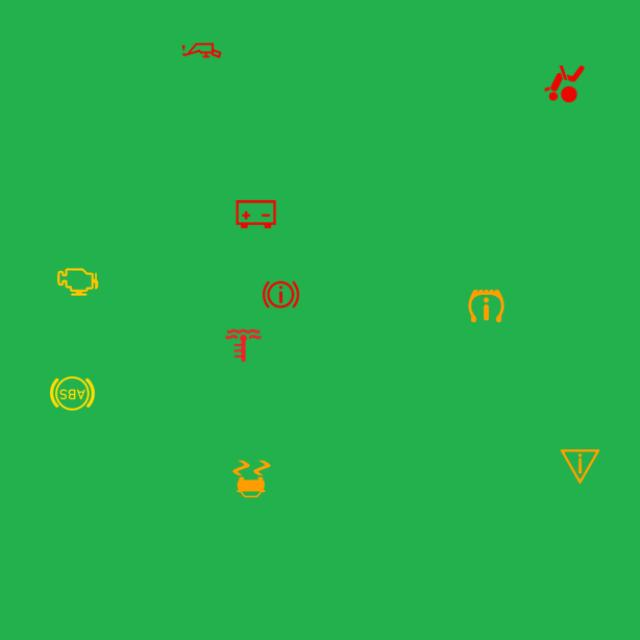Anti Lock Braking System: (48, 369, 97, 418)
Braking System Issue: (256, 270, 306, 319)
Charging System Issue: (232, 190, 280, 238)
Check Engine: (53, 258, 102, 306)
Electronic Stability Problem -ESP-: (227, 454, 276, 504)
Engine Overheating Warning Light: (219, 321, 268, 370)
Low Engine Oil Warning Light: (177, 26, 226, 75)
Low Tire Pressure Warning Light: (462, 282, 511, 331)
Master warning light: (556, 442, 604, 491)
SRS-Airbag: (540, 60, 589, 109)
